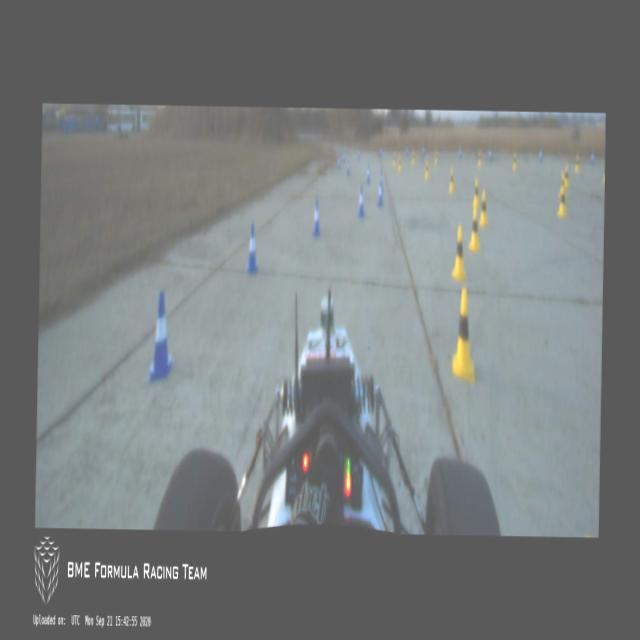blue_cone: (145, 291, 174, 380), (246, 222, 258, 272), (311, 200, 320, 237), (357, 186, 365, 218), (377, 180, 382, 207), (378, 170, 382, 195), (366, 164, 371, 184), (345, 157, 350, 176), (337, 152, 341, 172), (590, 148, 594, 166), (538, 144, 542, 162), (488, 146, 492, 162), (458, 144, 462, 160), (342, 149, 346, 163), (379, 144, 382, 158), (356, 146, 359, 160), (405, 146, 408, 156), (422, 144, 424, 158)
yellow_cone: (452, 291, 478, 385), (452, 225, 469, 282), (468, 207, 481, 252), (479, 190, 488, 228), (557, 186, 568, 217), (559, 171, 567, 199), (473, 176, 480, 207), (563, 164, 570, 190), (448, 168, 454, 192), (424, 160, 430, 179), (512, 150, 517, 172), (575, 153, 580, 173), (477, 148, 482, 168), (392, 150, 397, 168), (410, 148, 416, 163), (398, 154, 402, 172), (434, 148, 438, 164)
